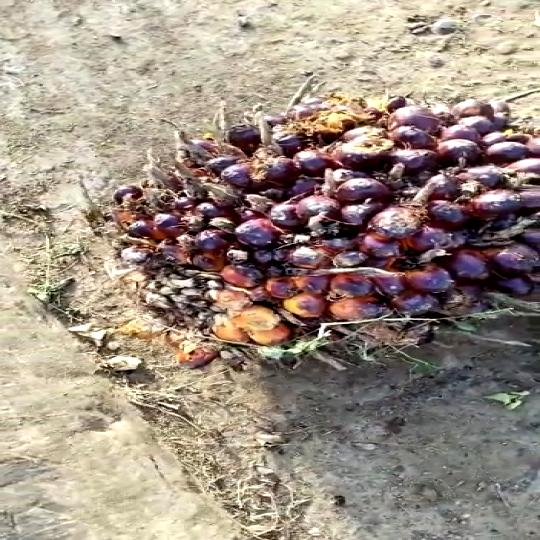kurang masak: (92, 84, 540, 384)
